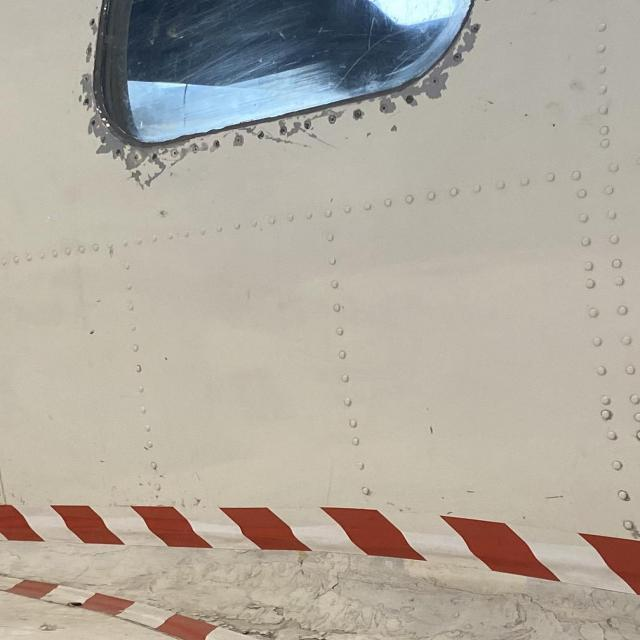Paint-off: (26, 547, 640, 640), (126, 160, 168, 187), (282, 119, 305, 141), (385, 122, 403, 133), (364, 130, 375, 138)
Scratch: (312, 134, 340, 149)
